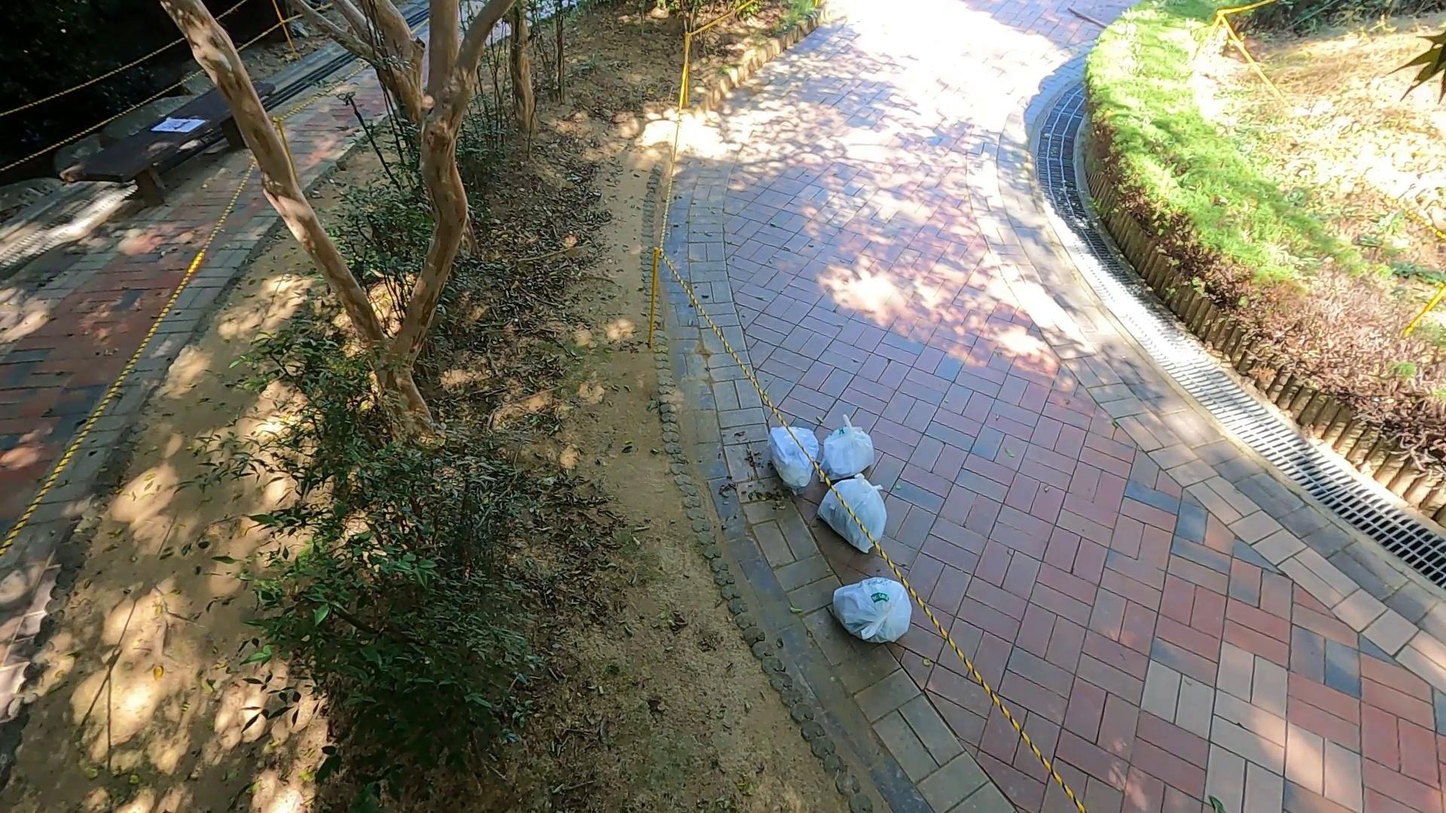trash: (817, 468, 894, 558), (828, 574, 915, 650), (822, 413, 878, 480), (769, 421, 817, 490)
